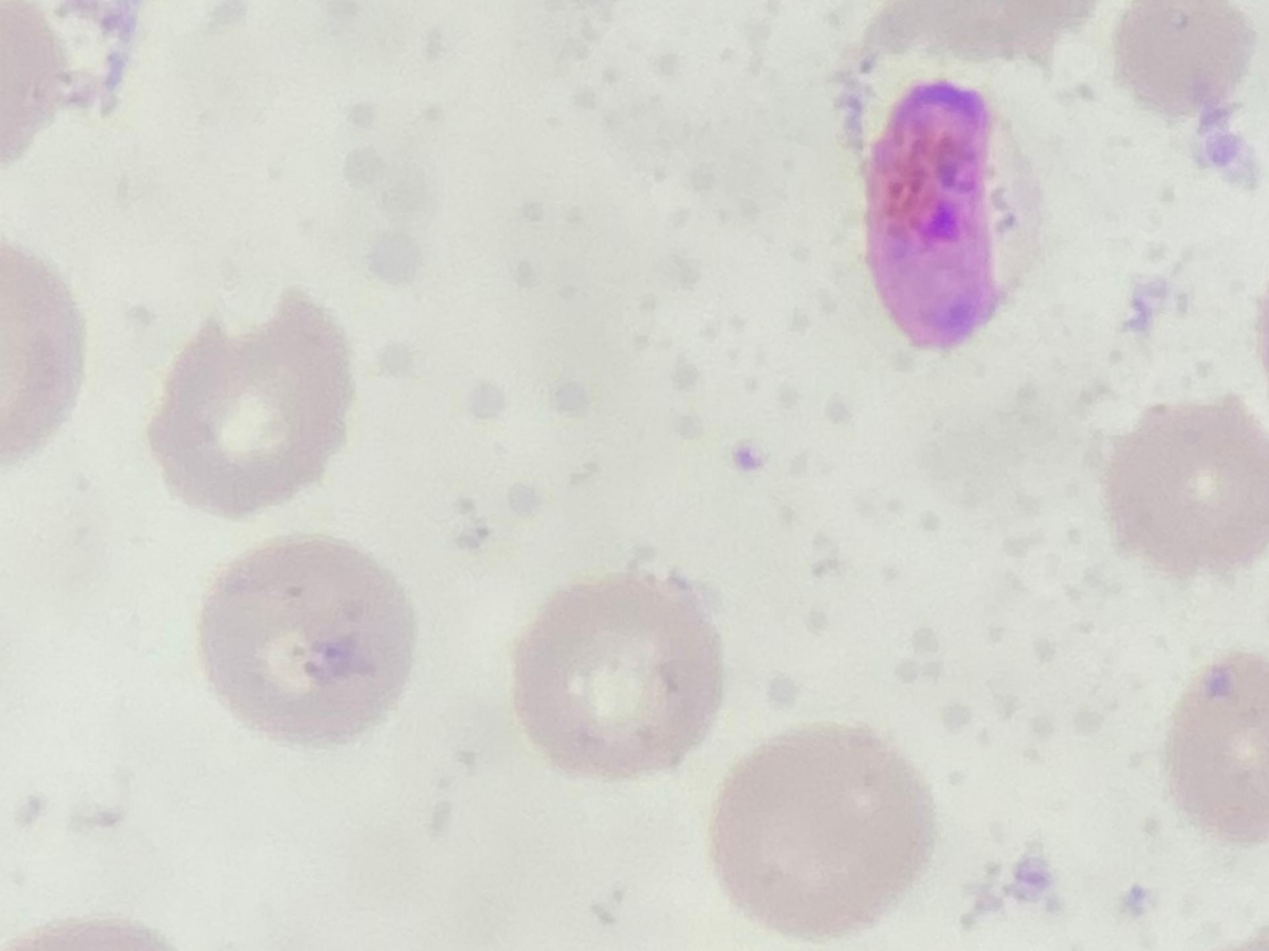Infected: (866, 80, 1044, 345)
Uninfected: (714, 719, 937, 937), (150, 292, 360, 512), (196, 543, 416, 743), (516, 585, 730, 777)
